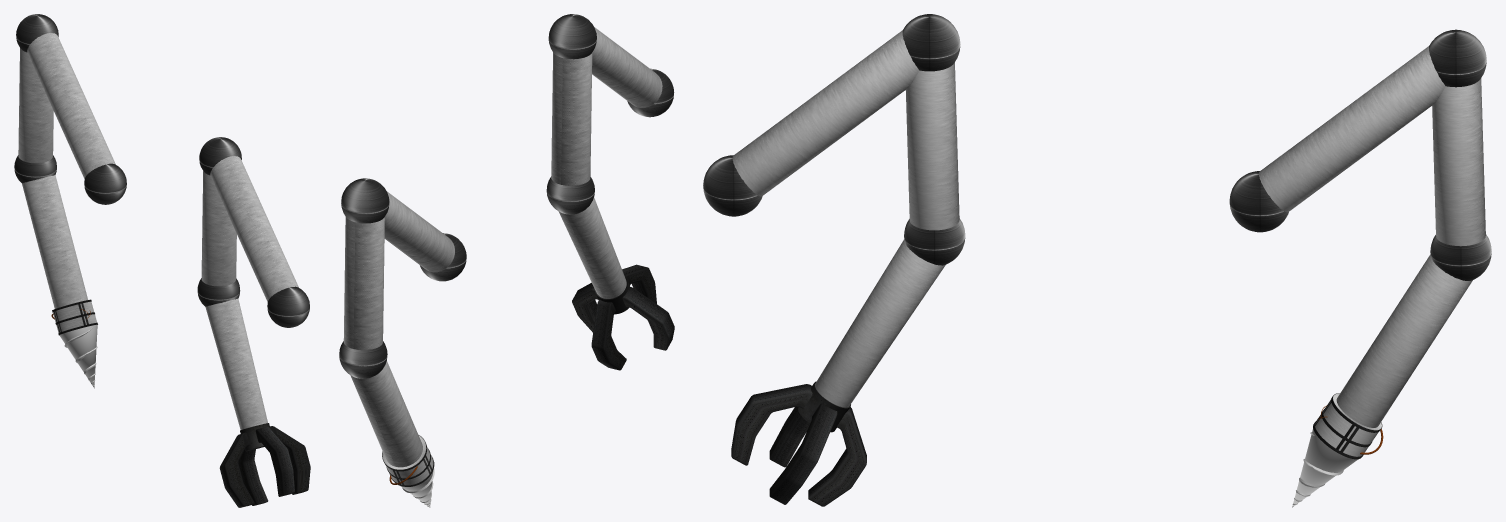
File: Руки(я).fbx
3 views of the same model, side by side, from view 1: azimuth 30°, elevation 25°; view 2: azimuth 150°, elevation 25°; view 3: azimuth 270°, elevation 25° (orthographic). The views are drawn at different scales.
Visible parts, largest first — view 1: Cylinder, Cylinder.019, Cylinder.015, Cylinder.018, Cylinder.016, Cylinder.017, Sphere, Sphere.005, Cube.003, Cube.008, Cone.001, Cube.002 (+7 smaller); view 2: Cylinder.016, Cylinder.017, Cylinder.015, Cylinder.018, Cylinder.019, Cylinder, Sphere.001, Sphere.004, Cube.003, Cube.001, Sphere.003, Sphere.002 (+6 smaller); view 3: Cylinder.019, Cylinder, Cylinder.015, Cylinder.017, Cylinder.016, Cylinder.018, Sphere.004, Sphere.001, Cube.008, Cube.002, Cube.001, Sphere.005 (+6 smaller).
Part boxes in pixels (x1=…): Cylinder: x1=27, y1=33, x2=115, y2=178; Cylinder.019: x1=210, y1=156, x2=298, y2=301; Cylinder.015: x1=22, y1=175, x2=87, y2=308; Cylinder.018: x1=205, y1=298, x2=267, y2=429; Cylinder.016: x1=18, y1=48, x2=53, y2=163; Cylinder.017: x1=201, y1=171, x2=236, y2=286; Sphere: x1=84, y1=163, x2=126, y2=204; Sphere.005: x1=267, y1=286, x2=309, y2=327; Cube.003: x1=219, y1=432, x2=254, y2=507; Cube.008: x1=255, y1=426, x2=294, y2=496; Cone.001: x1=59, y1=324, x2=97, y2=387; Cube.002: x1=270, y1=426, x2=310, y2=494; Cylinder.016: x1=343, y1=217, x2=384, y2=350; Cylinder.017: x1=551, y1=52, x2=592, y2=185; Cylinder.015: x1=350, y1=361, x2=422, y2=467; Cylinder.018: x1=558, y1=197, x2=626, y2=298; Cylinder.019: x1=592, y1=27, x2=662, y2=107; Cylinder: x1=384, y1=191, x2=454, y2=272; Sphere.001: x1=341, y1=178, x2=389, y2=223; Sphere.004: x1=548, y1=14, x2=596, y2=59; Cube.003: x1=622, y1=286, x2=674, y2=350; Cube.001: x1=591, y1=299, x2=626, y2=370; Sphere.003: x1=546, y1=176, x2=594, y2=214; Sphere.002: x1=339, y1=341, x2=387, y2=378; Cylinder.019: x1=732, y1=30, x2=919, y2=196; Cylinder: x1=1259, y1=46, x2=1445, y2=212; Cylinder.015: x1=1336, y1=254, x2=1472, y2=427; Cylinder.017: x1=905, y1=62, x2=959, y2=230; Cylinder.016: x1=1432, y1=78, x2=1485, y2=246; Cylinder.018: x1=815, y1=239, x2=945, y2=407; Sphere.004: x1=902, y1=14, x2=960, y2=71; Sphere.001: x1=1429, y1=29, x2=1486, y2=87; Cube.008: x1=731, y1=384, x2=812, y2=465; Cube.002: x1=769, y1=403, x2=837, y2=504; Cube.001: x1=808, y1=407, x2=866, y2=506; Sphere.005: x1=703, y1=155, x2=762, y2=216.
Bounding box in the file's own units: 76.86 × 311 × 452.
